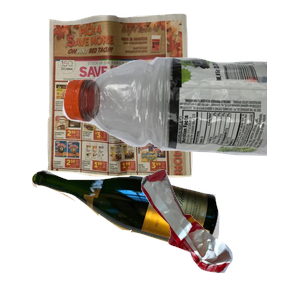glass: (29, 167, 241, 300)
paper: (44, 11, 229, 181)
plastic: (60, 53, 300, 201)
trash: (139, 167, 300, 300)
